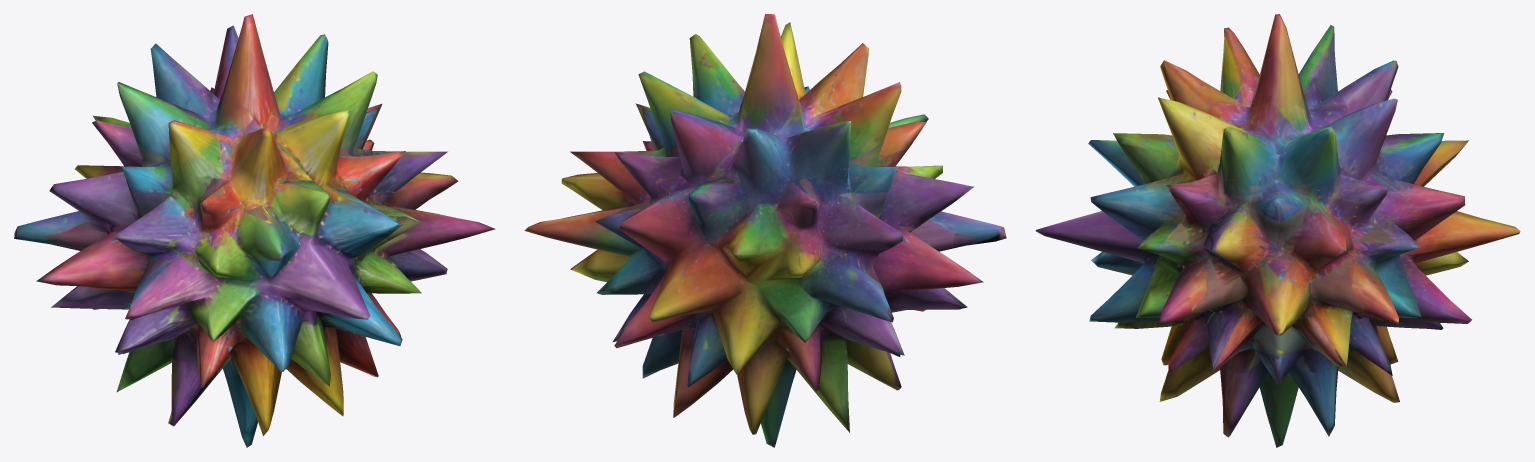
File: testStarSpike.glb
3 renders of one model, left to right at view 1: azimuth 30°, elevation 25°; view 2: azimuth 150°, elevation 25°; view 3: azimuth 270°, elevation 25°, orthographic.
Visible parts, largest first — view 1: Mesh_0; view 2: Mesh_0; view 3: Mesh_0.
Part boxes in pixels (<box>): Mesh_0: <box>14,14,495,447</box>; Mesh_0: <box>524,14,1006,447</box>; Mesh_0: <box>1035,14,1520,447</box>.
Bounding box in the file's own units: 1.02 × 1 × 1.01.
Materials: 1 (1 with a texture image).
